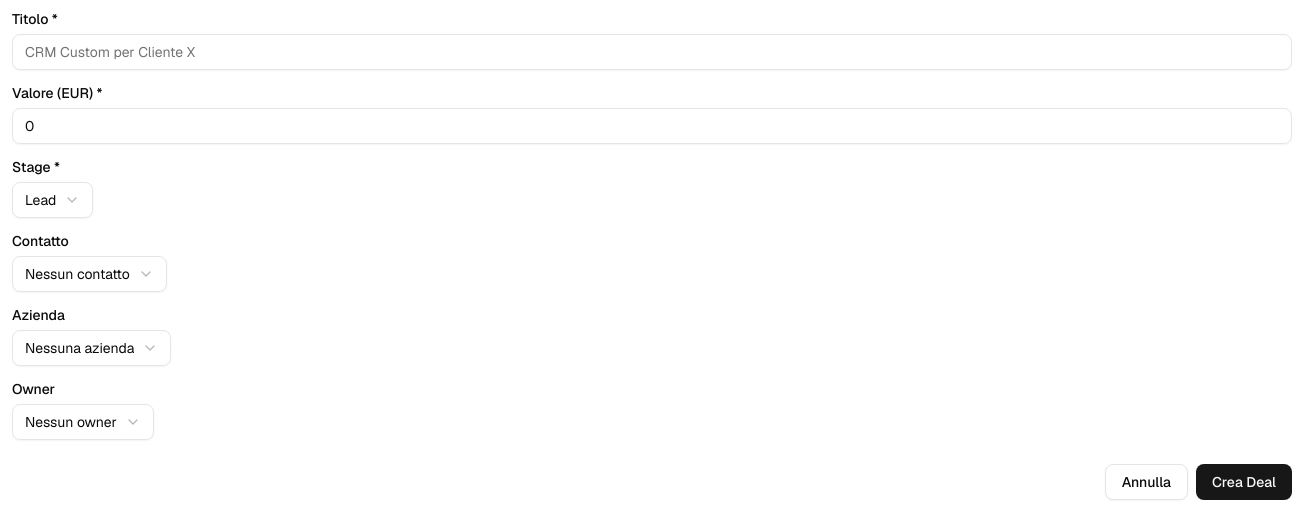
Test: DealForm › filters contacts when company is selected
The width and height of the screenshot is (1304, 517).
Click the dropdown labelled "Nessuna azienda".
click(92, 348)  # box [12, 330, 171, 366]
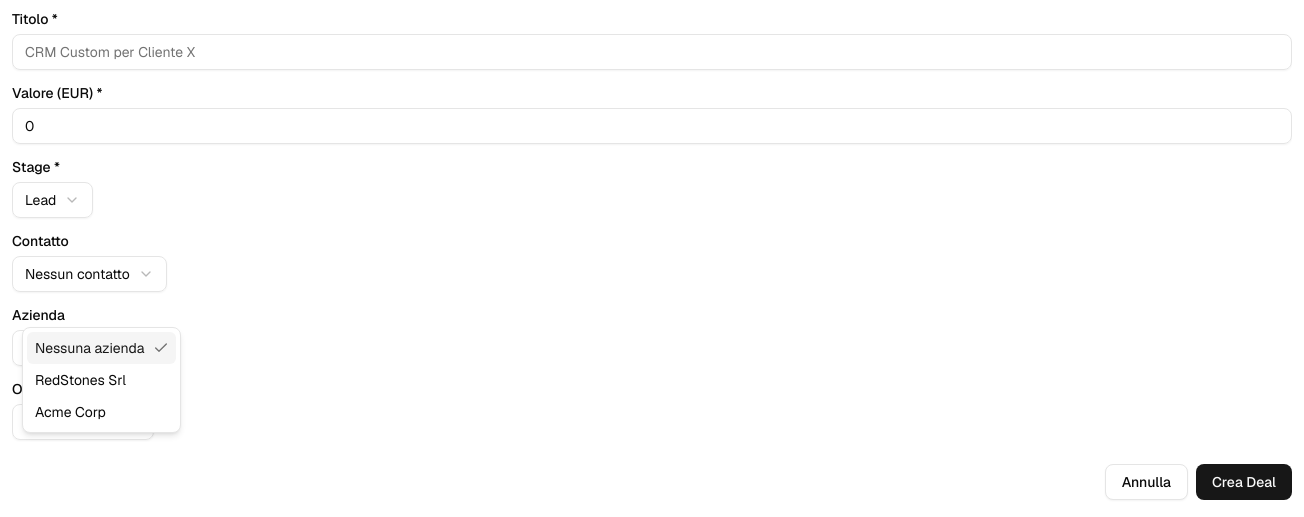
Click the option "Acme Corp".
click(70, 412)  # box [35, 403, 106, 421]
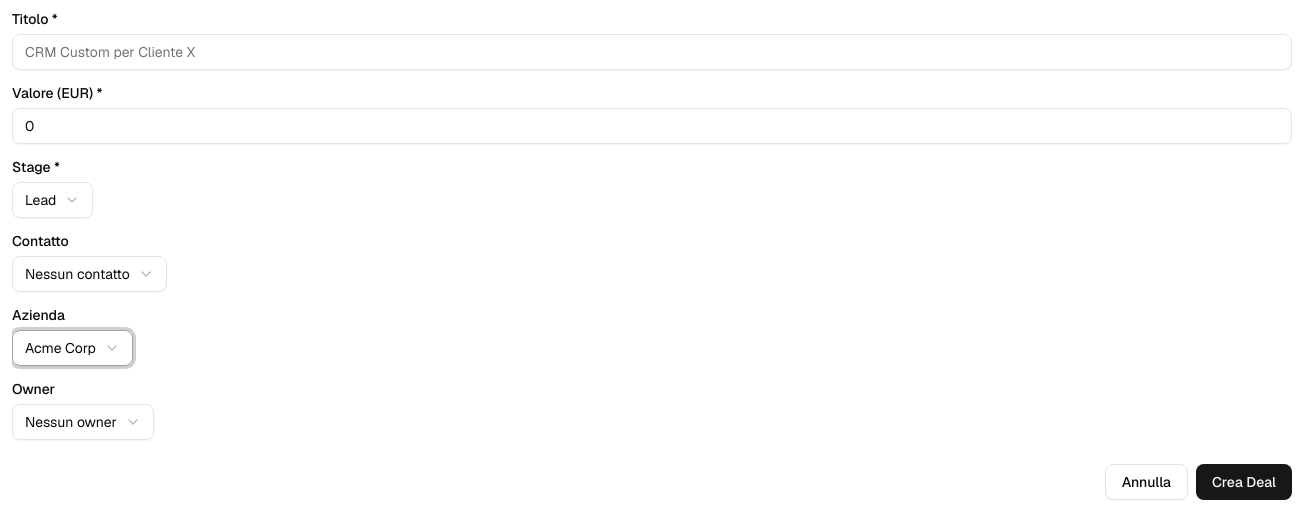
Open contact dropdown — should show Luigi (Acme) and Anna (no company), but not Mario (RedStones)
Click the dropdown labelled "Nessun contatto".
click(89, 274)  # box [12, 256, 167, 292]
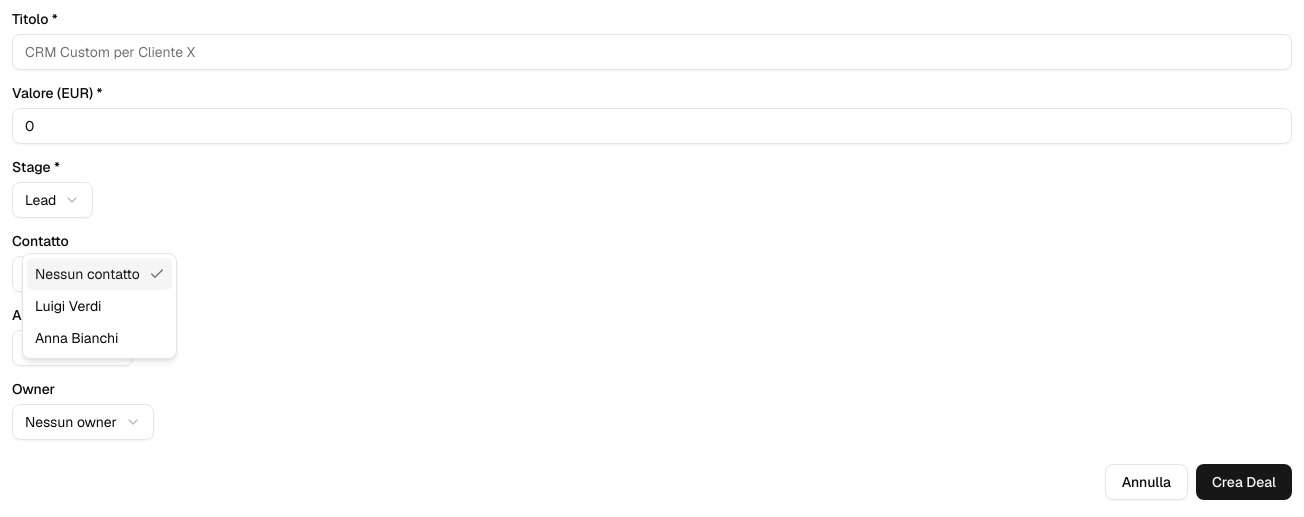
Now the option "Luigi Verdi" is shown, box [35, 297, 101, 315]
Now the option "Anna Bianchi" is shown, box [35, 329, 118, 347]
